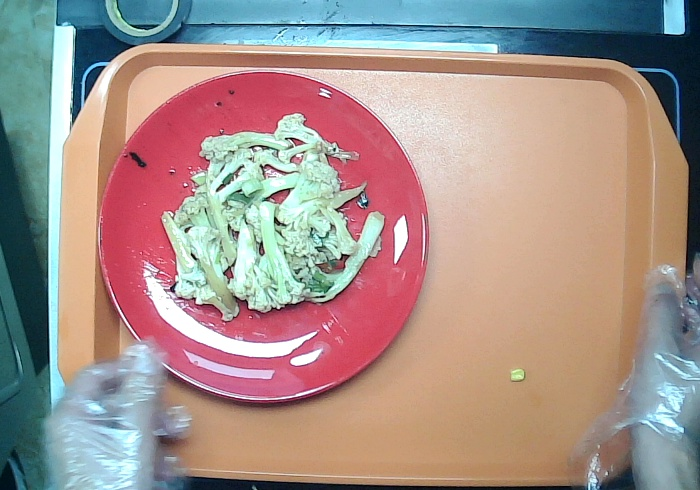HZYJPL-Hong_Se_Yuan_Pan: (95, 68, 431, 408)
